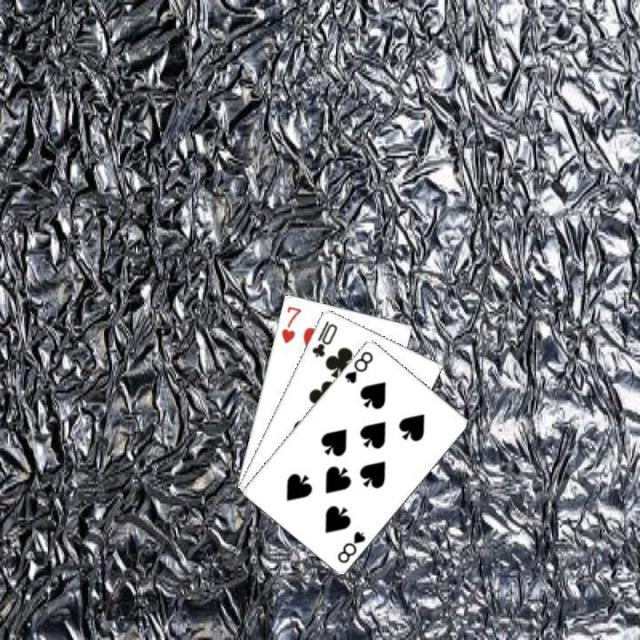10C: (307, 317, 338, 359)
7H: (277, 301, 303, 345)
8S: (341, 347, 375, 385), (333, 526, 367, 564)
